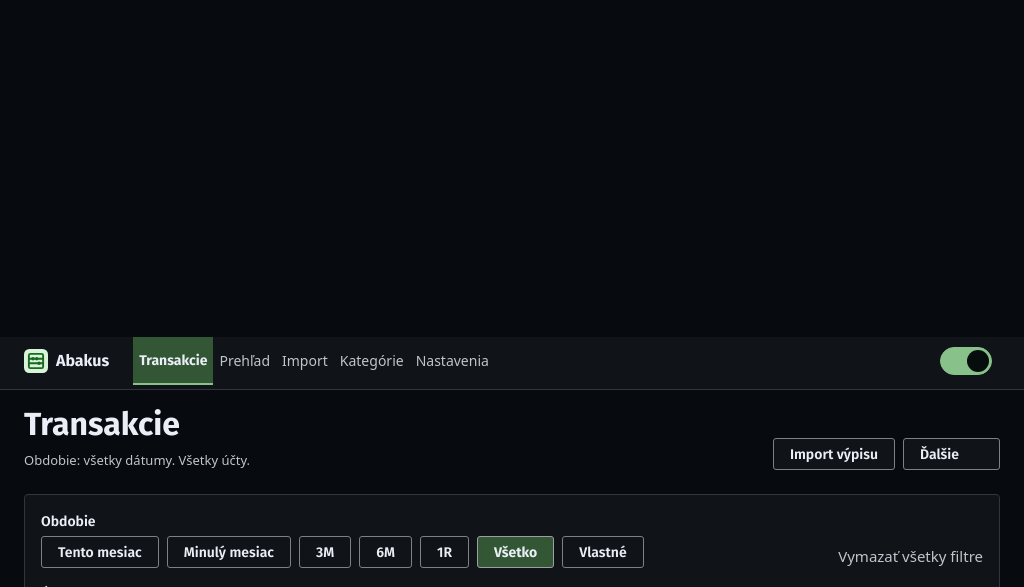
Test case: returns from a checksum statement drill-down to ordinary transactions through the rail
(page scrolled)
Click the button "Prehľad" at (245, 361), box [213,337,276,385]
(page scrolled)
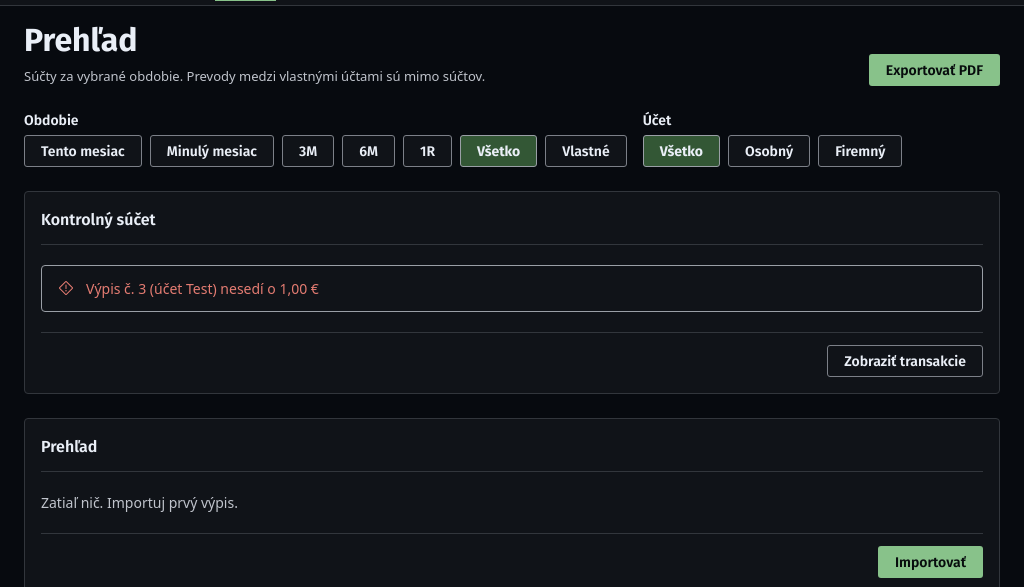
Click the button "Zobraziť transakcie" at (905, 361), box [827,345,983,377]
(page scrolled)
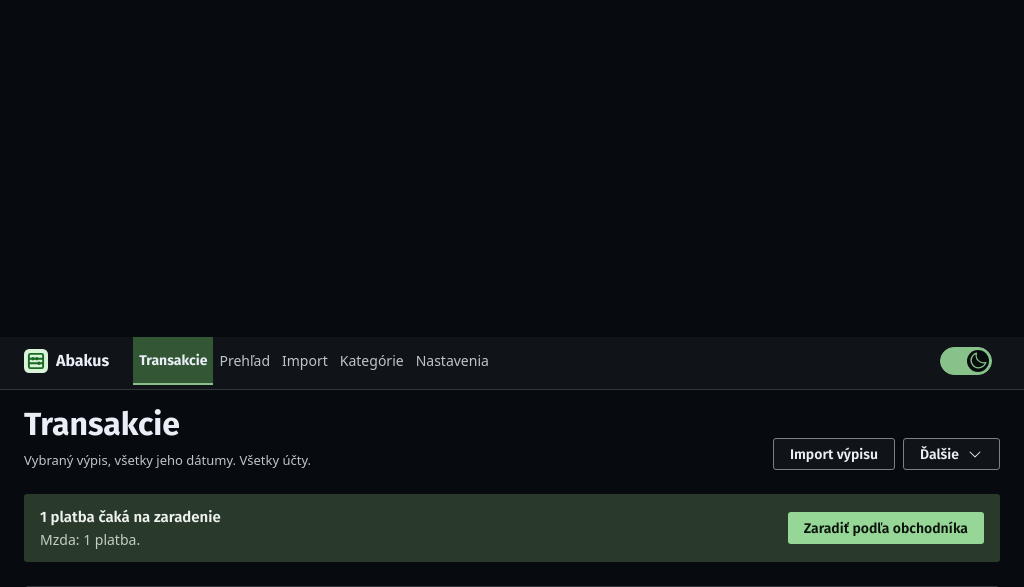
Click the button "Transakcie" at (173, 361), box [133,337,214,385]
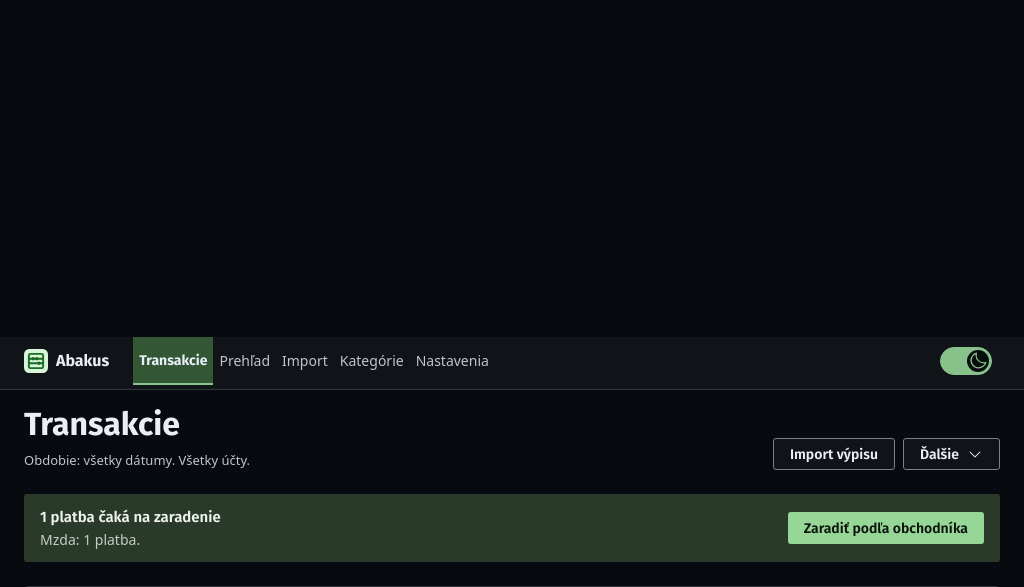
Now the text "Vybraný výpis, všetky jeho dátumy." is gone
